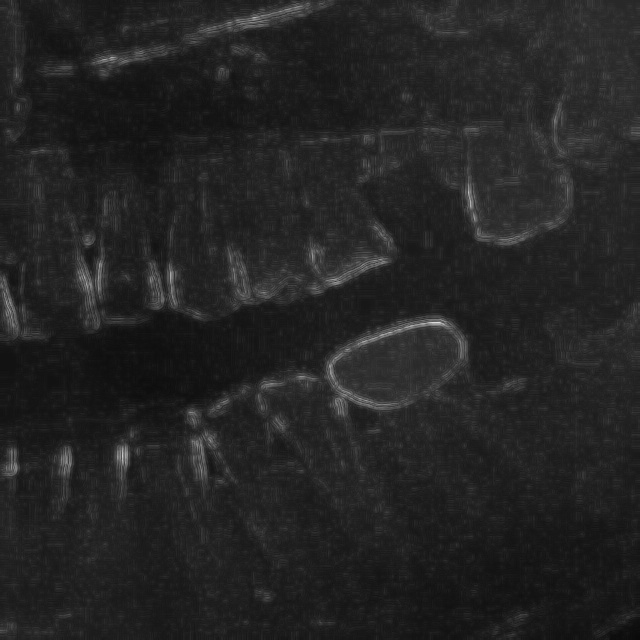Class 2- incomplete endodontic treatment: (314, 305, 572, 549)
